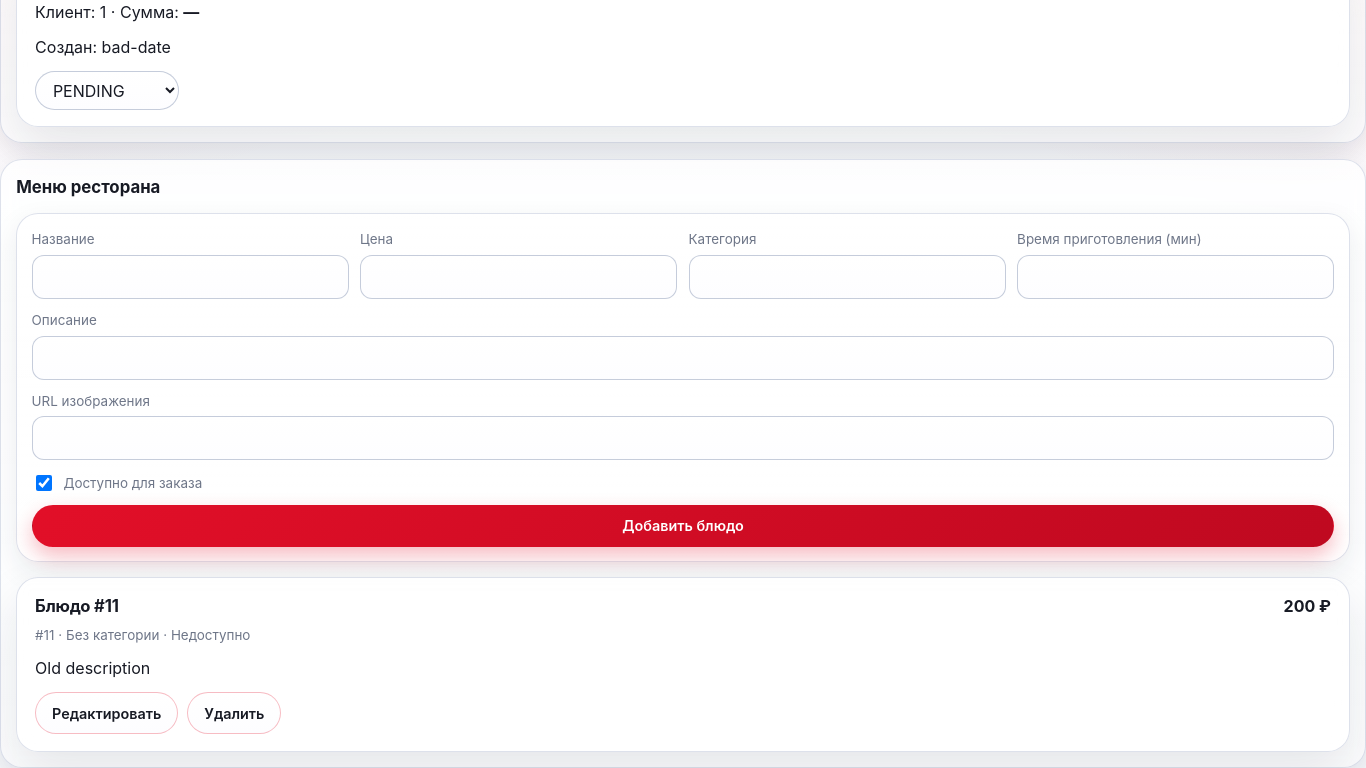
Test: RestaurantDashboardPage › supports editing and deleting menu dishes
(page scrolled)
Expected: the heading "Блюдо #11" is shown, [35, 594, 119, 619]
Expected: the text "Old description" is shown, [35, 658, 150, 678]
Step 1. Click the button "Редактировать" → point(107, 713), box [35, 692, 178, 734]
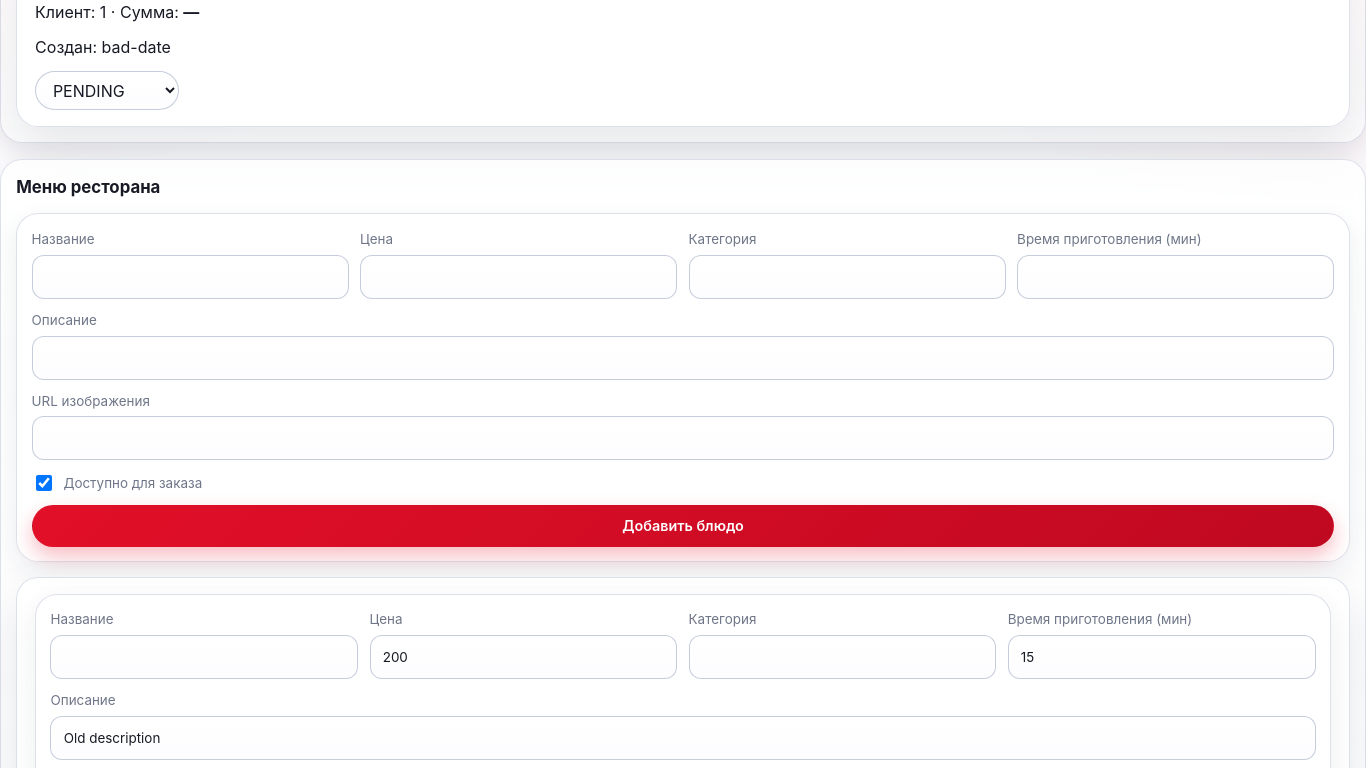
Step 2. Type "Updated Dish" into the 2nd field labelled "Название" → point(204, 657), box [50, 635, 358, 679]
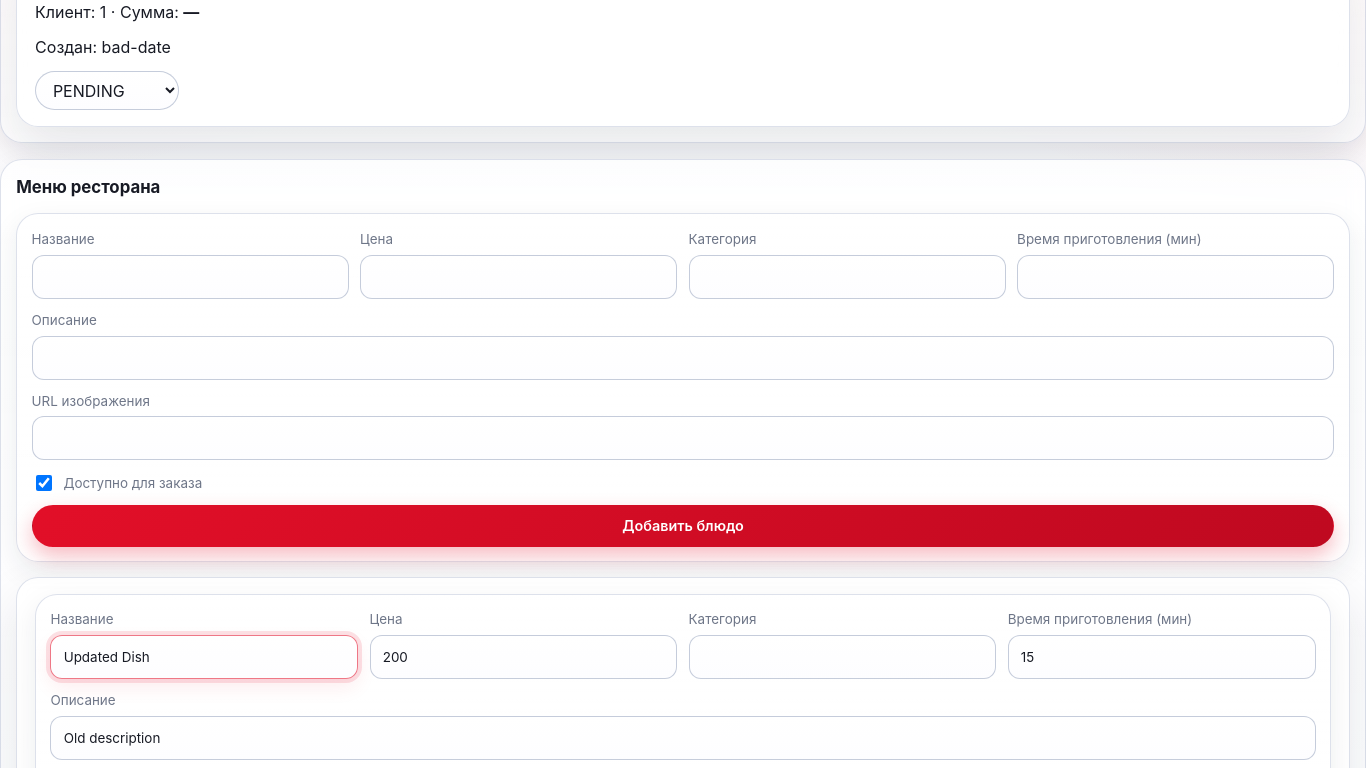
Step 3. Replace the text in the 2nd number field labelled "Цена" with "250" → point(523, 657), box [370, 635, 677, 679]
(page scrolled)
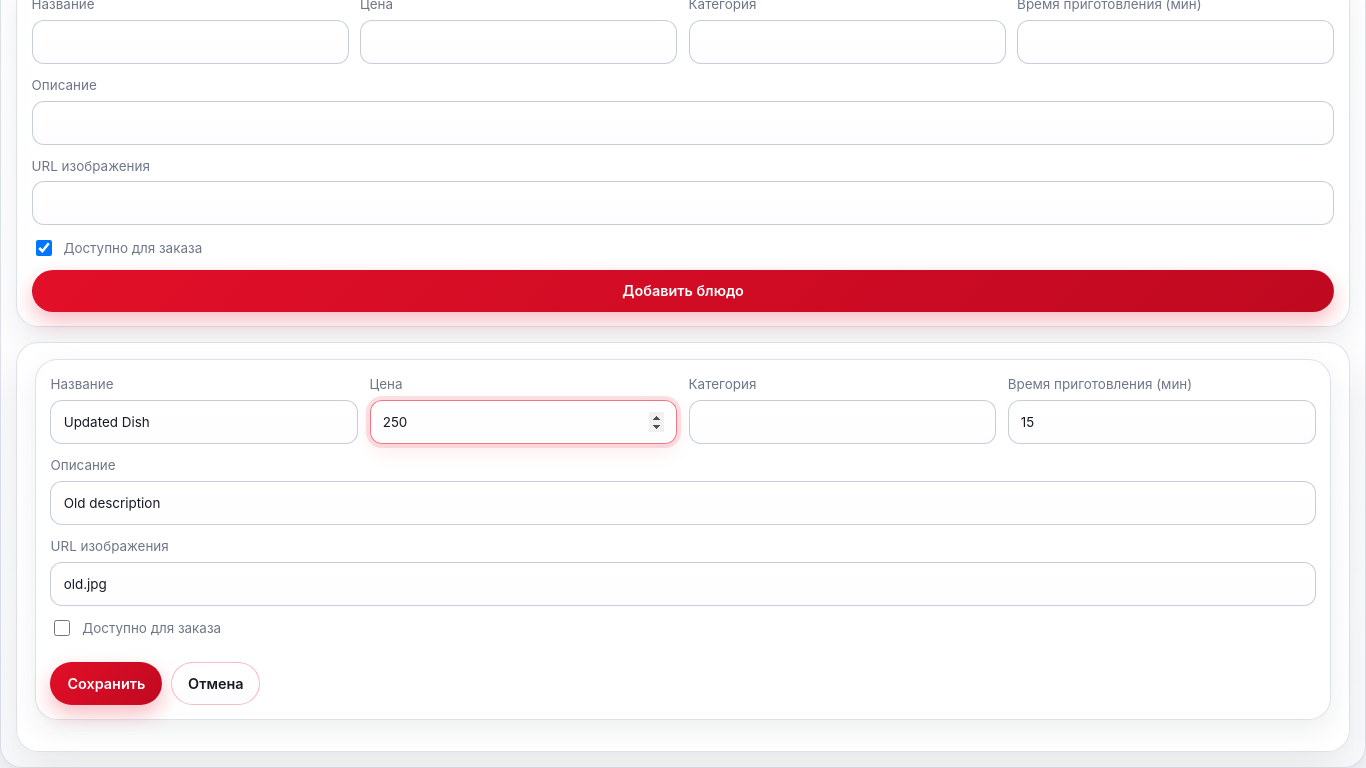
Step 4. Click the button "Сохранить" → point(106, 683), box [50, 662, 162, 704]
(page scrolled)
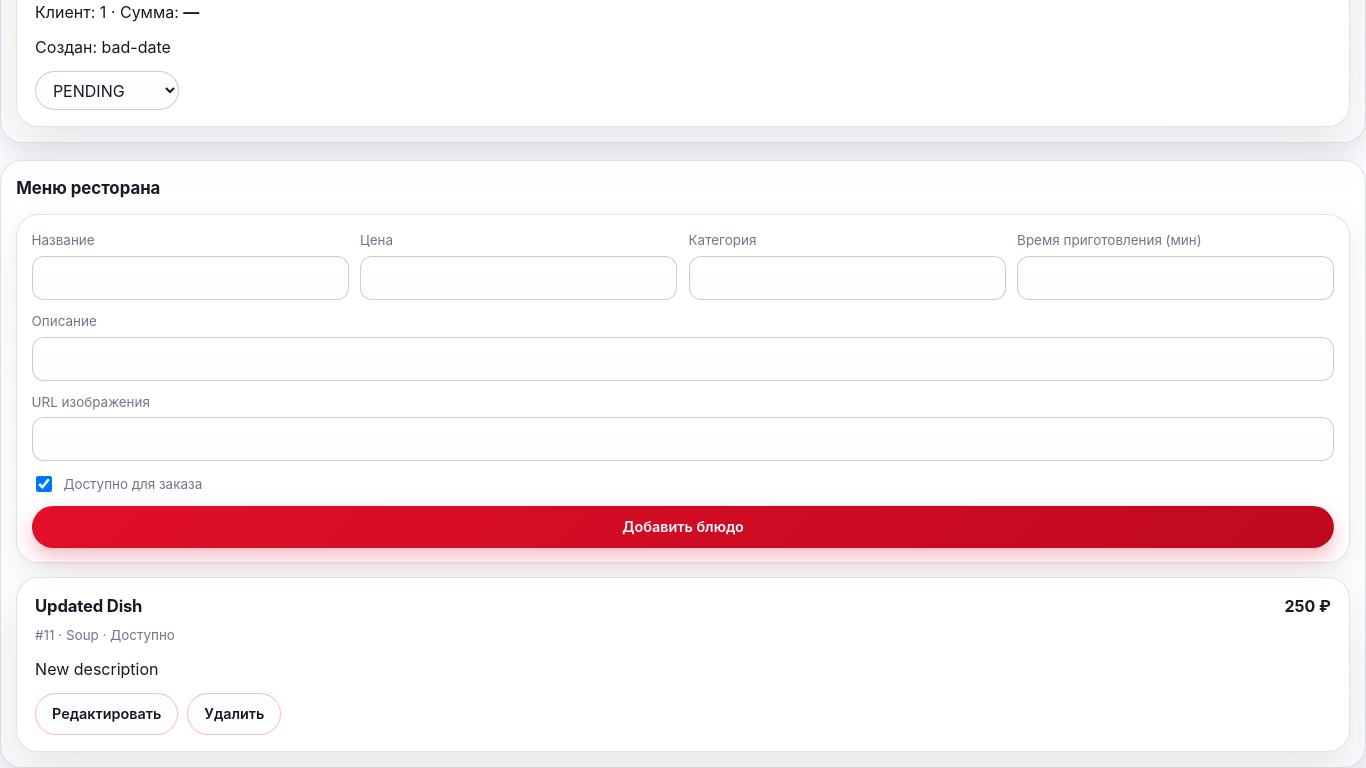
Now the heading "Updated Dish" is shown, box [35, 594, 142, 619]
Step 5. Click the button "Удалить" → point(234, 714), box [187, 693, 282, 735]
(page scrolled)
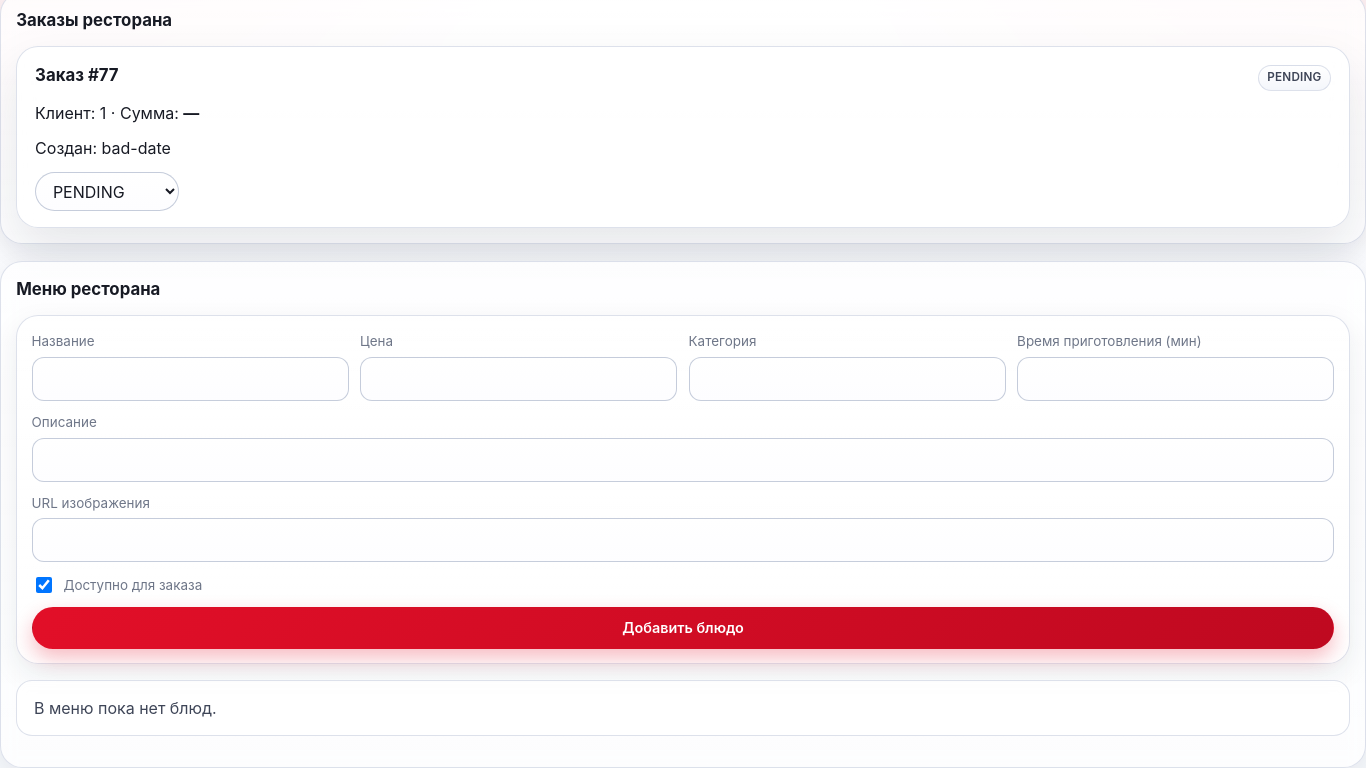
Now the heading "Updated Dish" is gone
